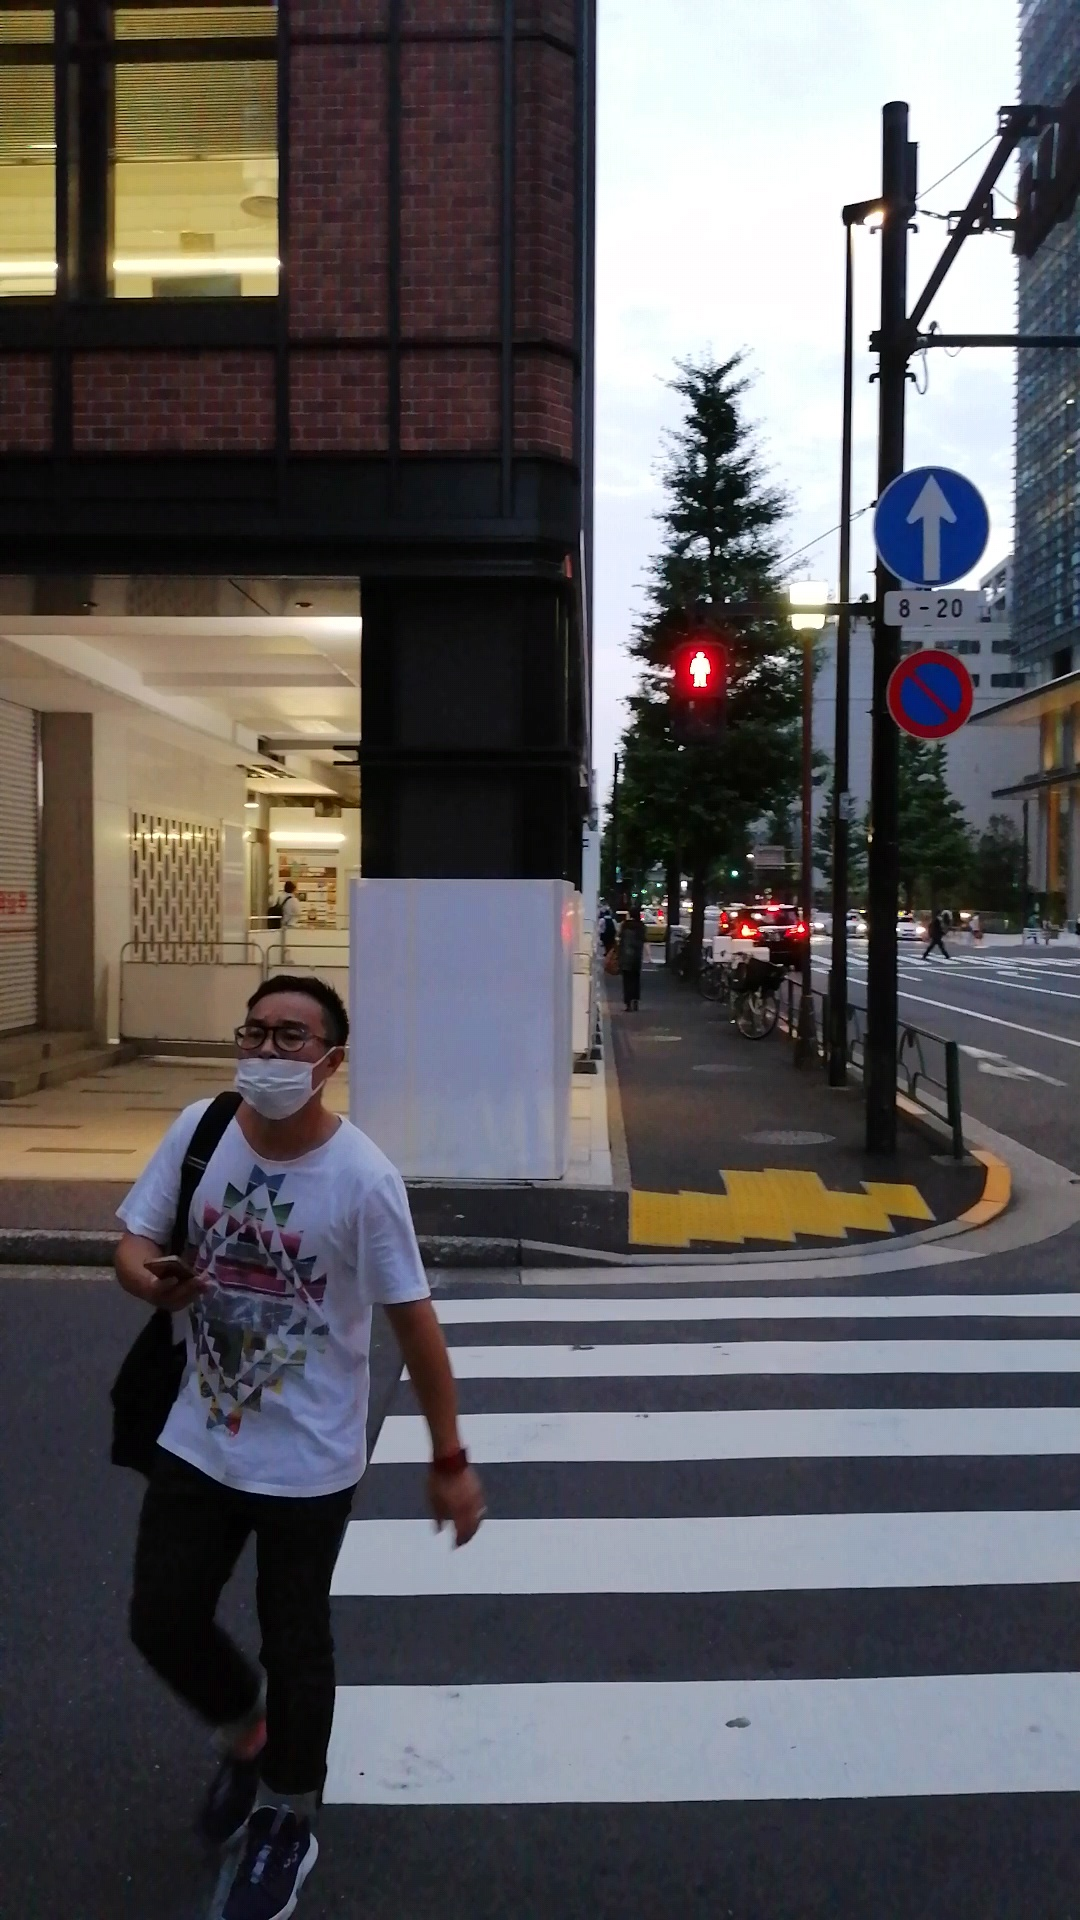red: (676, 640, 725, 738)
